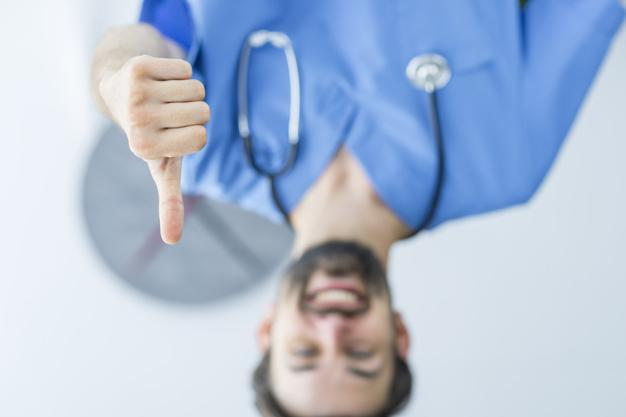thumbsdown: (119, 55, 211, 245)
